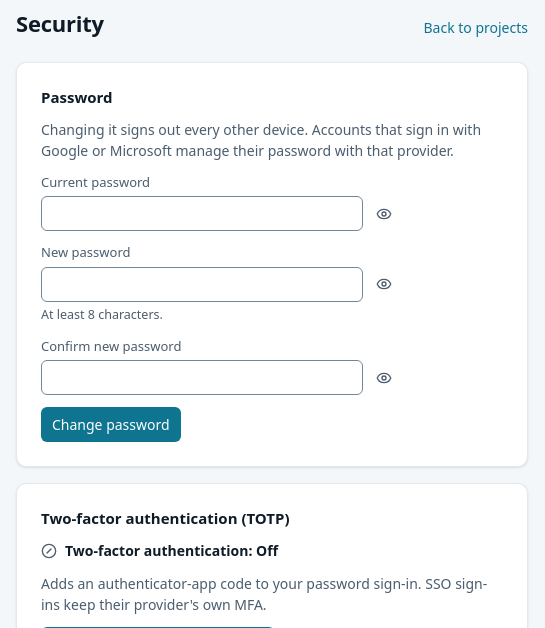
changing the password sends both and confirms
The width and height of the screenshot is (545, 628).
Step 1. Type "old-password-1" into the password field labelled "Current password" → (202, 214), box [41,196,363,231]
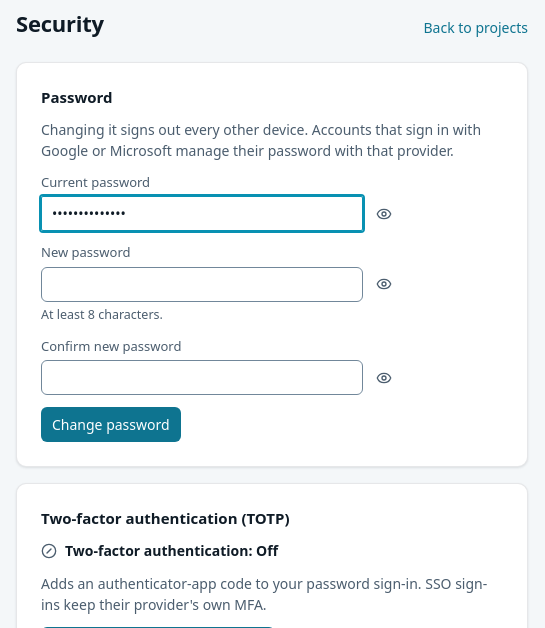
Step 2. Type "new-password-22" into the password field labelled "New password" → (202, 284), box [41,267,363,302]
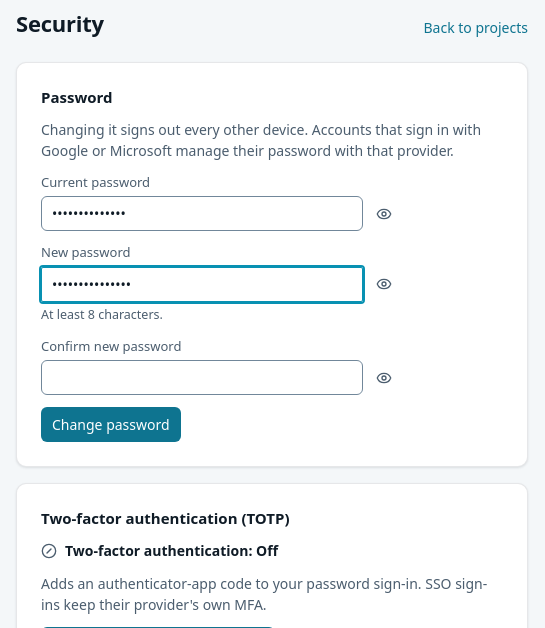
Step 3. Type "new-password-22" into the password field labelled "Confirm new password" → (202, 378), box [41,360,363,395]
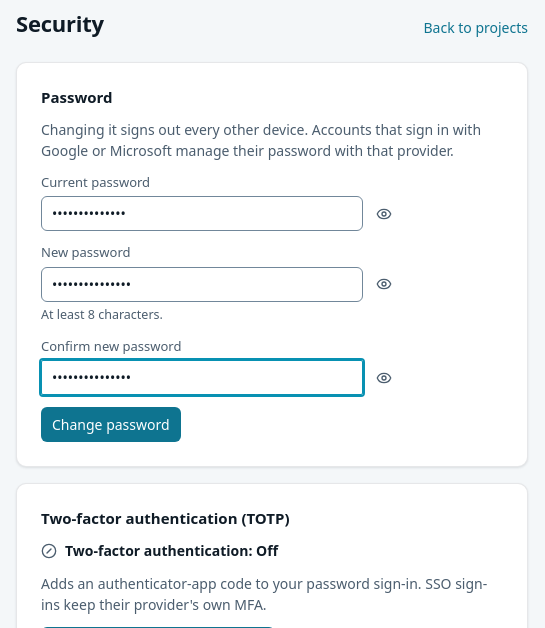
Step 4. Click the button "Change password" → click(111, 424), box [41,407,181,442]
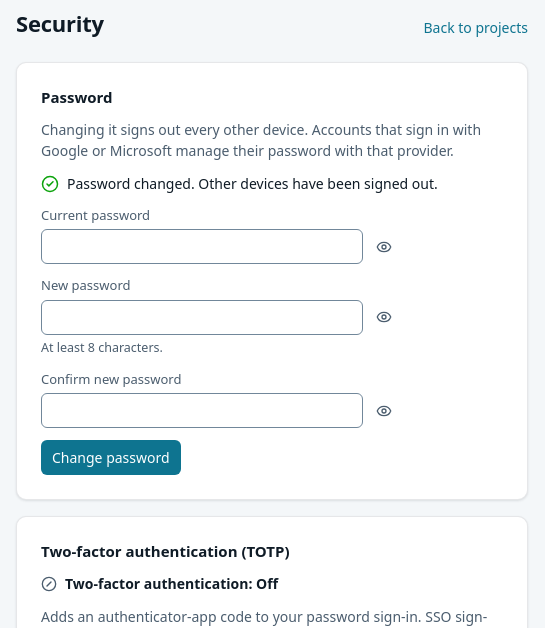
Expected: the text "Password changed. Other devices have been signed out." is shown, [67,173,438,194]
Expected: the password field labelled "Current password" is empty, [41,229,363,264]
